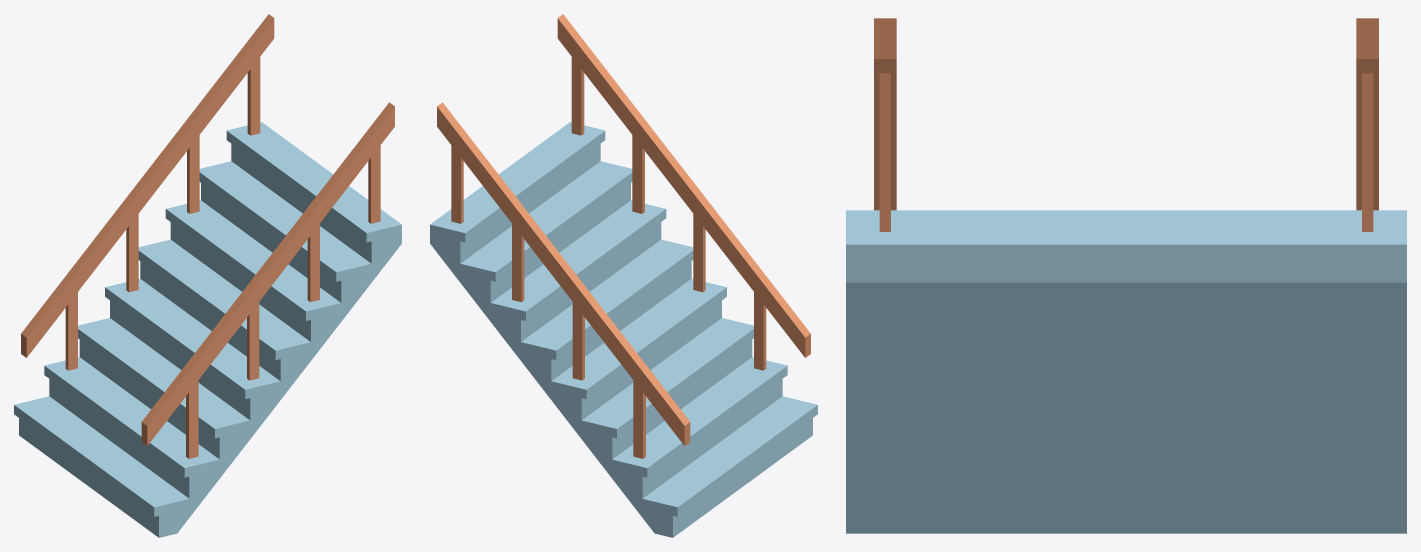
File: stairsWideStoneHandrail.obj
3 renders of one model, left to right at view 1: azimuth 30°, elevation 25°; view 2: azimuth 150°, elevation 25°; view 3: azimuth 270°, elevation 25°, orthographic. The views are drawn at different scales.
Parts seen in each view (by area): view 1: stairsWideStoneHandrail, rail; view 2: stairsWideStoneHandrail, rail; view 3: stairsWideStoneHandrail, rail.
Boxes of the visible parts, box(x1,y1,x2,y2) form: stairsWideStoneHandrail: box(14, 122, 401, 537); rail: box(21, 14, 394, 458); stairsWideStoneHandrail: box(430, 122, 817, 537); rail: box(437, 14, 810, 458); stairsWideStoneHandrail: box(846, 210, 1406, 533); rail: box(874, 18, 1378, 231).
Bounding box in the file's own units: 1.02 × 1.45 × 1.
